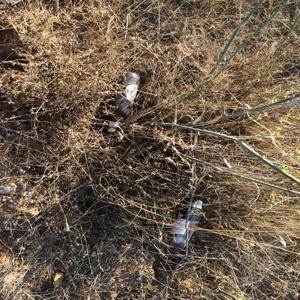glass: (163, 187, 202, 262), (112, 63, 142, 149)
